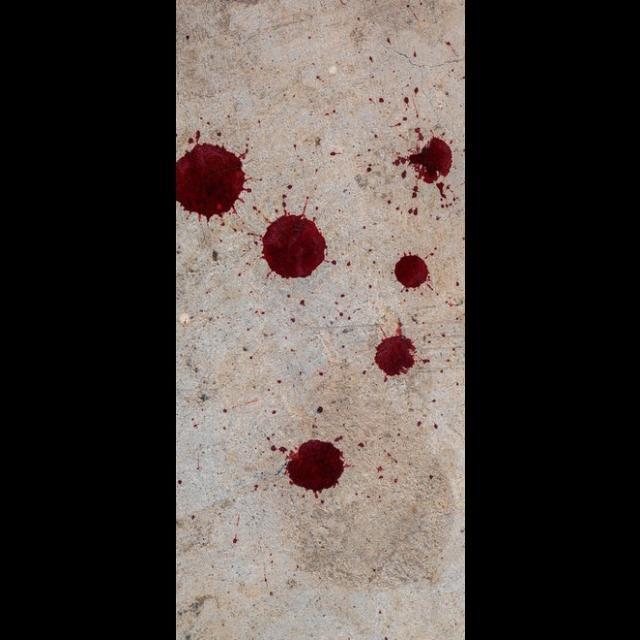blood: (176, 129, 251, 222), (260, 206, 328, 279), (285, 438, 351, 498), (394, 135, 452, 183), (374, 326, 417, 382), (394, 251, 430, 288)
